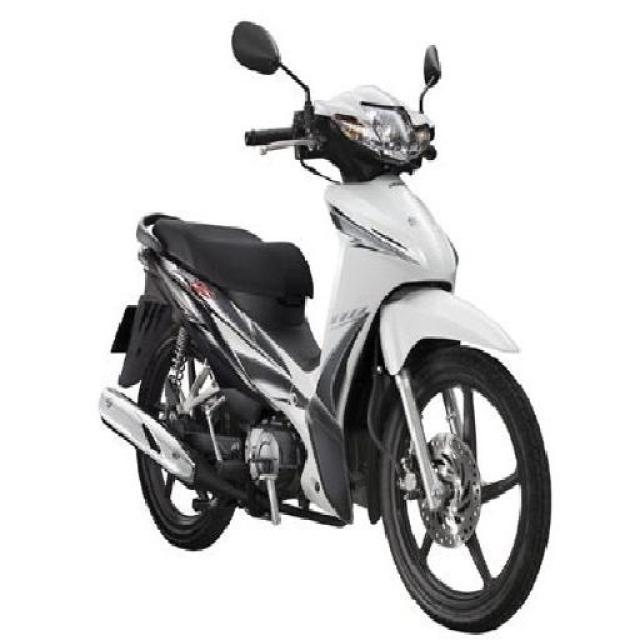All: (93, 76, 548, 636)
Head: (246, 82, 439, 173)
Tail: (131, 212, 202, 281)
